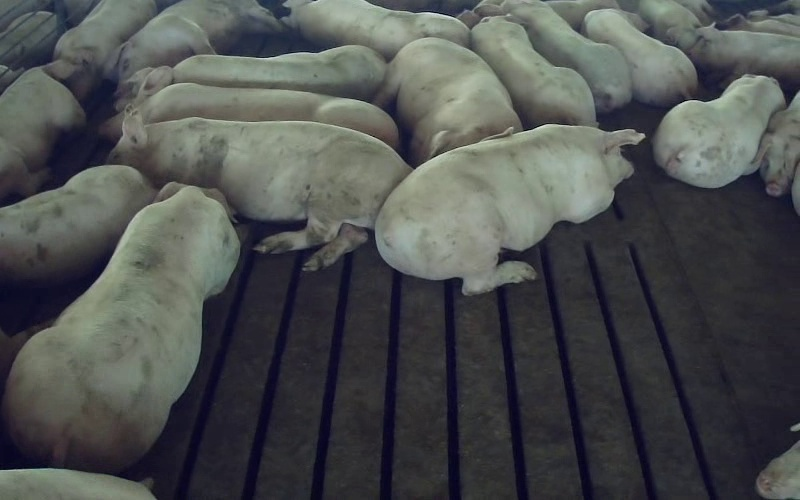pig: (3, 183, 238, 472), (109, 110, 410, 270), (375, 124, 643, 294), (134, 67, 398, 148), (0, 165, 156, 286), (373, 38, 521, 165), (105, 0, 283, 99), (653, 75, 784, 187), (501, 0, 631, 112), (471, 16, 597, 127), (0, 60, 95, 199), (173, 45, 386, 100), (583, 9, 697, 106), (283, 0, 469, 59), (686, 27, 799, 91), (745, 91, 799, 196), (638, 0, 701, 52)
